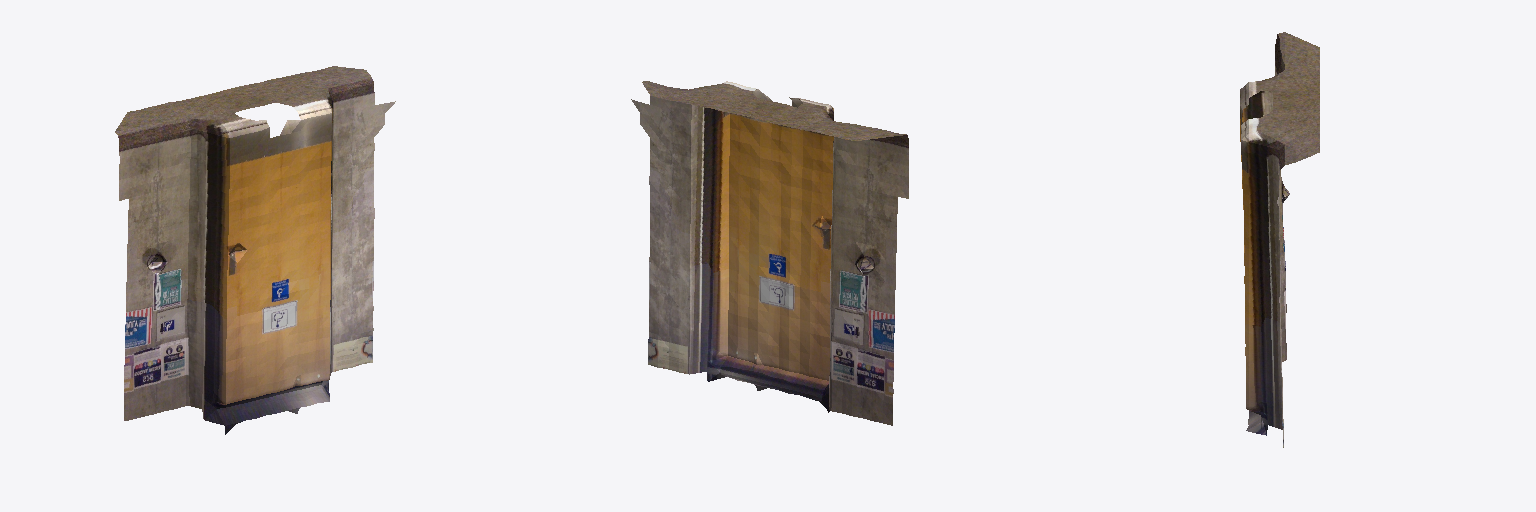
3 views of the same model, side by side, from view 1: azimuth 30°, elevation 25°; view 2: azimuth 150°, elevation 25°; view 3: azimuth 270°, elevation 25° (orthographic).
Bounding box in the file's own units: 2.25 × 2.42 × 0.5647.
Materials: 1 (1 with a texture image).